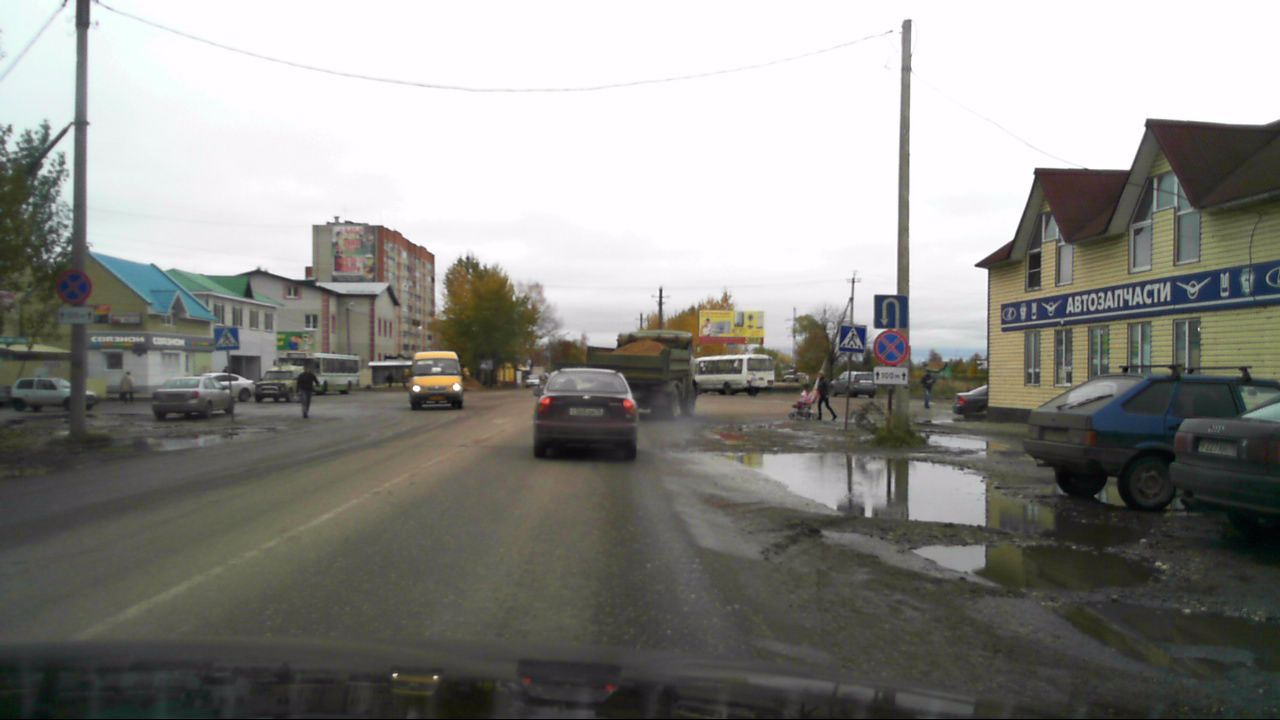No Parking: (56, 267, 91, 306)
Pedestrian Crossing: (840, 326, 865, 352)
U-turn: (875, 296, 907, 329)
